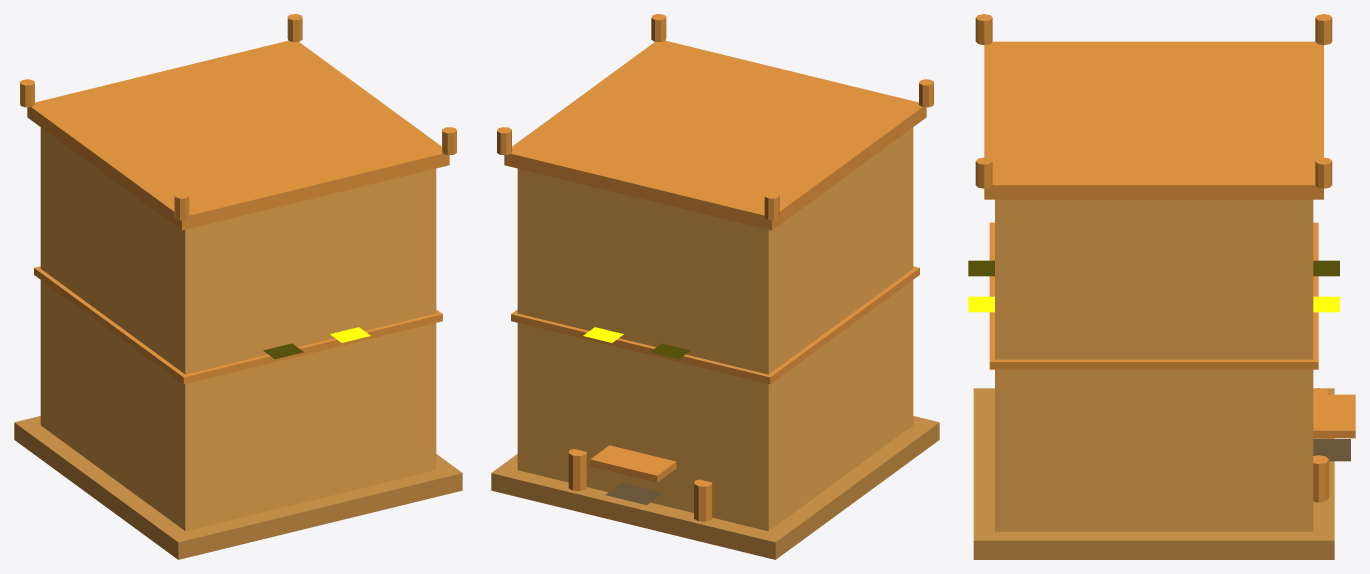
The model's file is police_station.glb.
3 views of the same model, side by side, from view 1: azimuth 30°, elevation 25°; view 2: azimuth 150°, elevation 25°; view 3: azimuth 270°, elevation 25° (orthographic). The views are drawn at different scales.
Visible parts, largest first — view 1: police_station; view 2: police_station; view 3: police_station.
Part boxes in pixels (box(x1,y1,x2,y2)): police_station: box(14, 14, 462, 559); police_station: box(491, 14, 939, 559); police_station: box(968, 14, 1355, 559).
Bounding box in the file's own units: 3.4 × 4.1 × 3.65.
